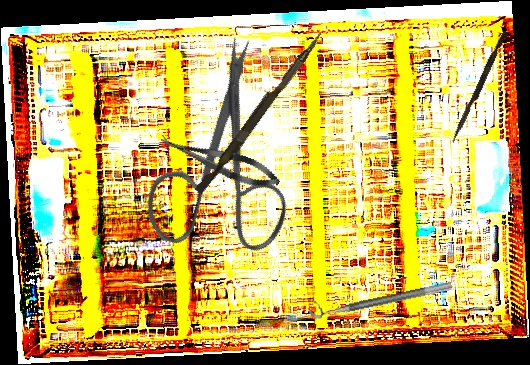Fixation Ring: (306, 269, 453, 321)
Iris Scissors: (90, 28, 343, 292)
Micro Scissor: (156, 127, 284, 195)
Pusher: (194, 26, 325, 198), (450, 29, 509, 145)
